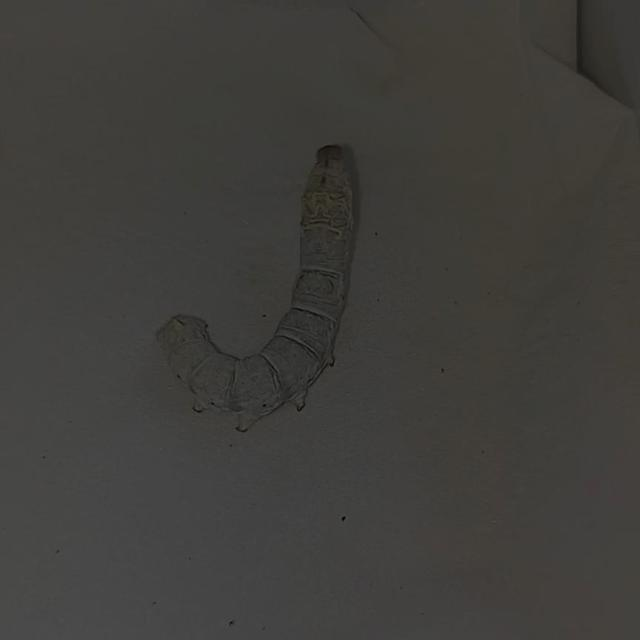Healthy: (136, 118, 430, 466)
